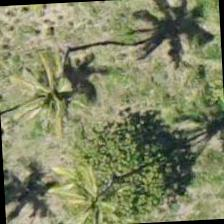Kelapa_Sawit: (7, 29, 102, 124), (40, 156, 135, 223)
